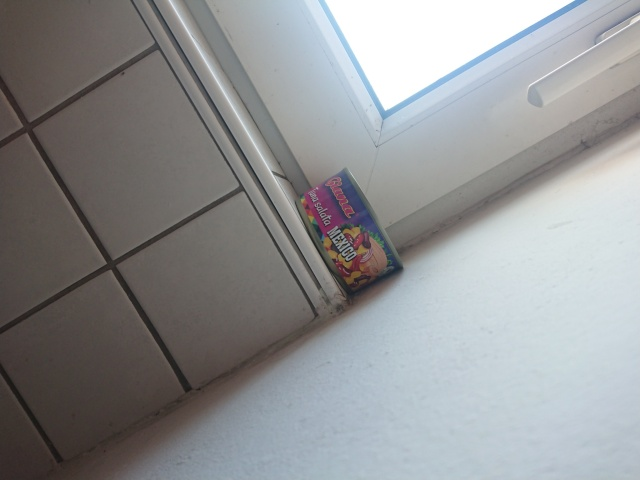Giana Tuna Salad Mexico 185g: (292, 165, 408, 300)
